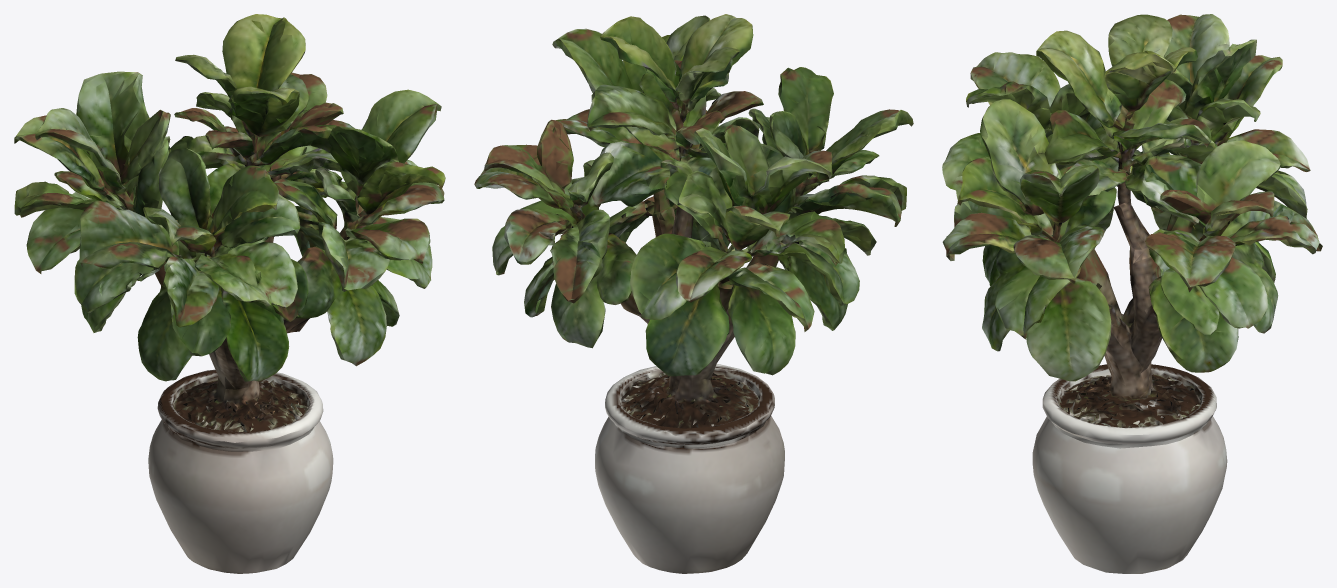
The model's file is plant_v01_with VARCO.fbx.
The picture shows the model from 3 angles, left to right: view 1: azimuth 30°, elevation 25°; view 2: azimuth 150°, elevation 25°; view 3: azimuth 270°, elevation 25°; orthographic projection. The views are drawn at different scales.
Visible parts, largest first — view 1: Plant; view 2: Plant; view 3: Plant.
Boxes of the visible parts, box(x1,y1,x2,y2) form: Plant: box(14, 14, 445, 573); Plant: box(474, 14, 913, 573); Plant: box(942, 14, 1322, 573).
Bounding box in the file's own units: 111 × 150 × 98.21.
1 material, 1 textured.
